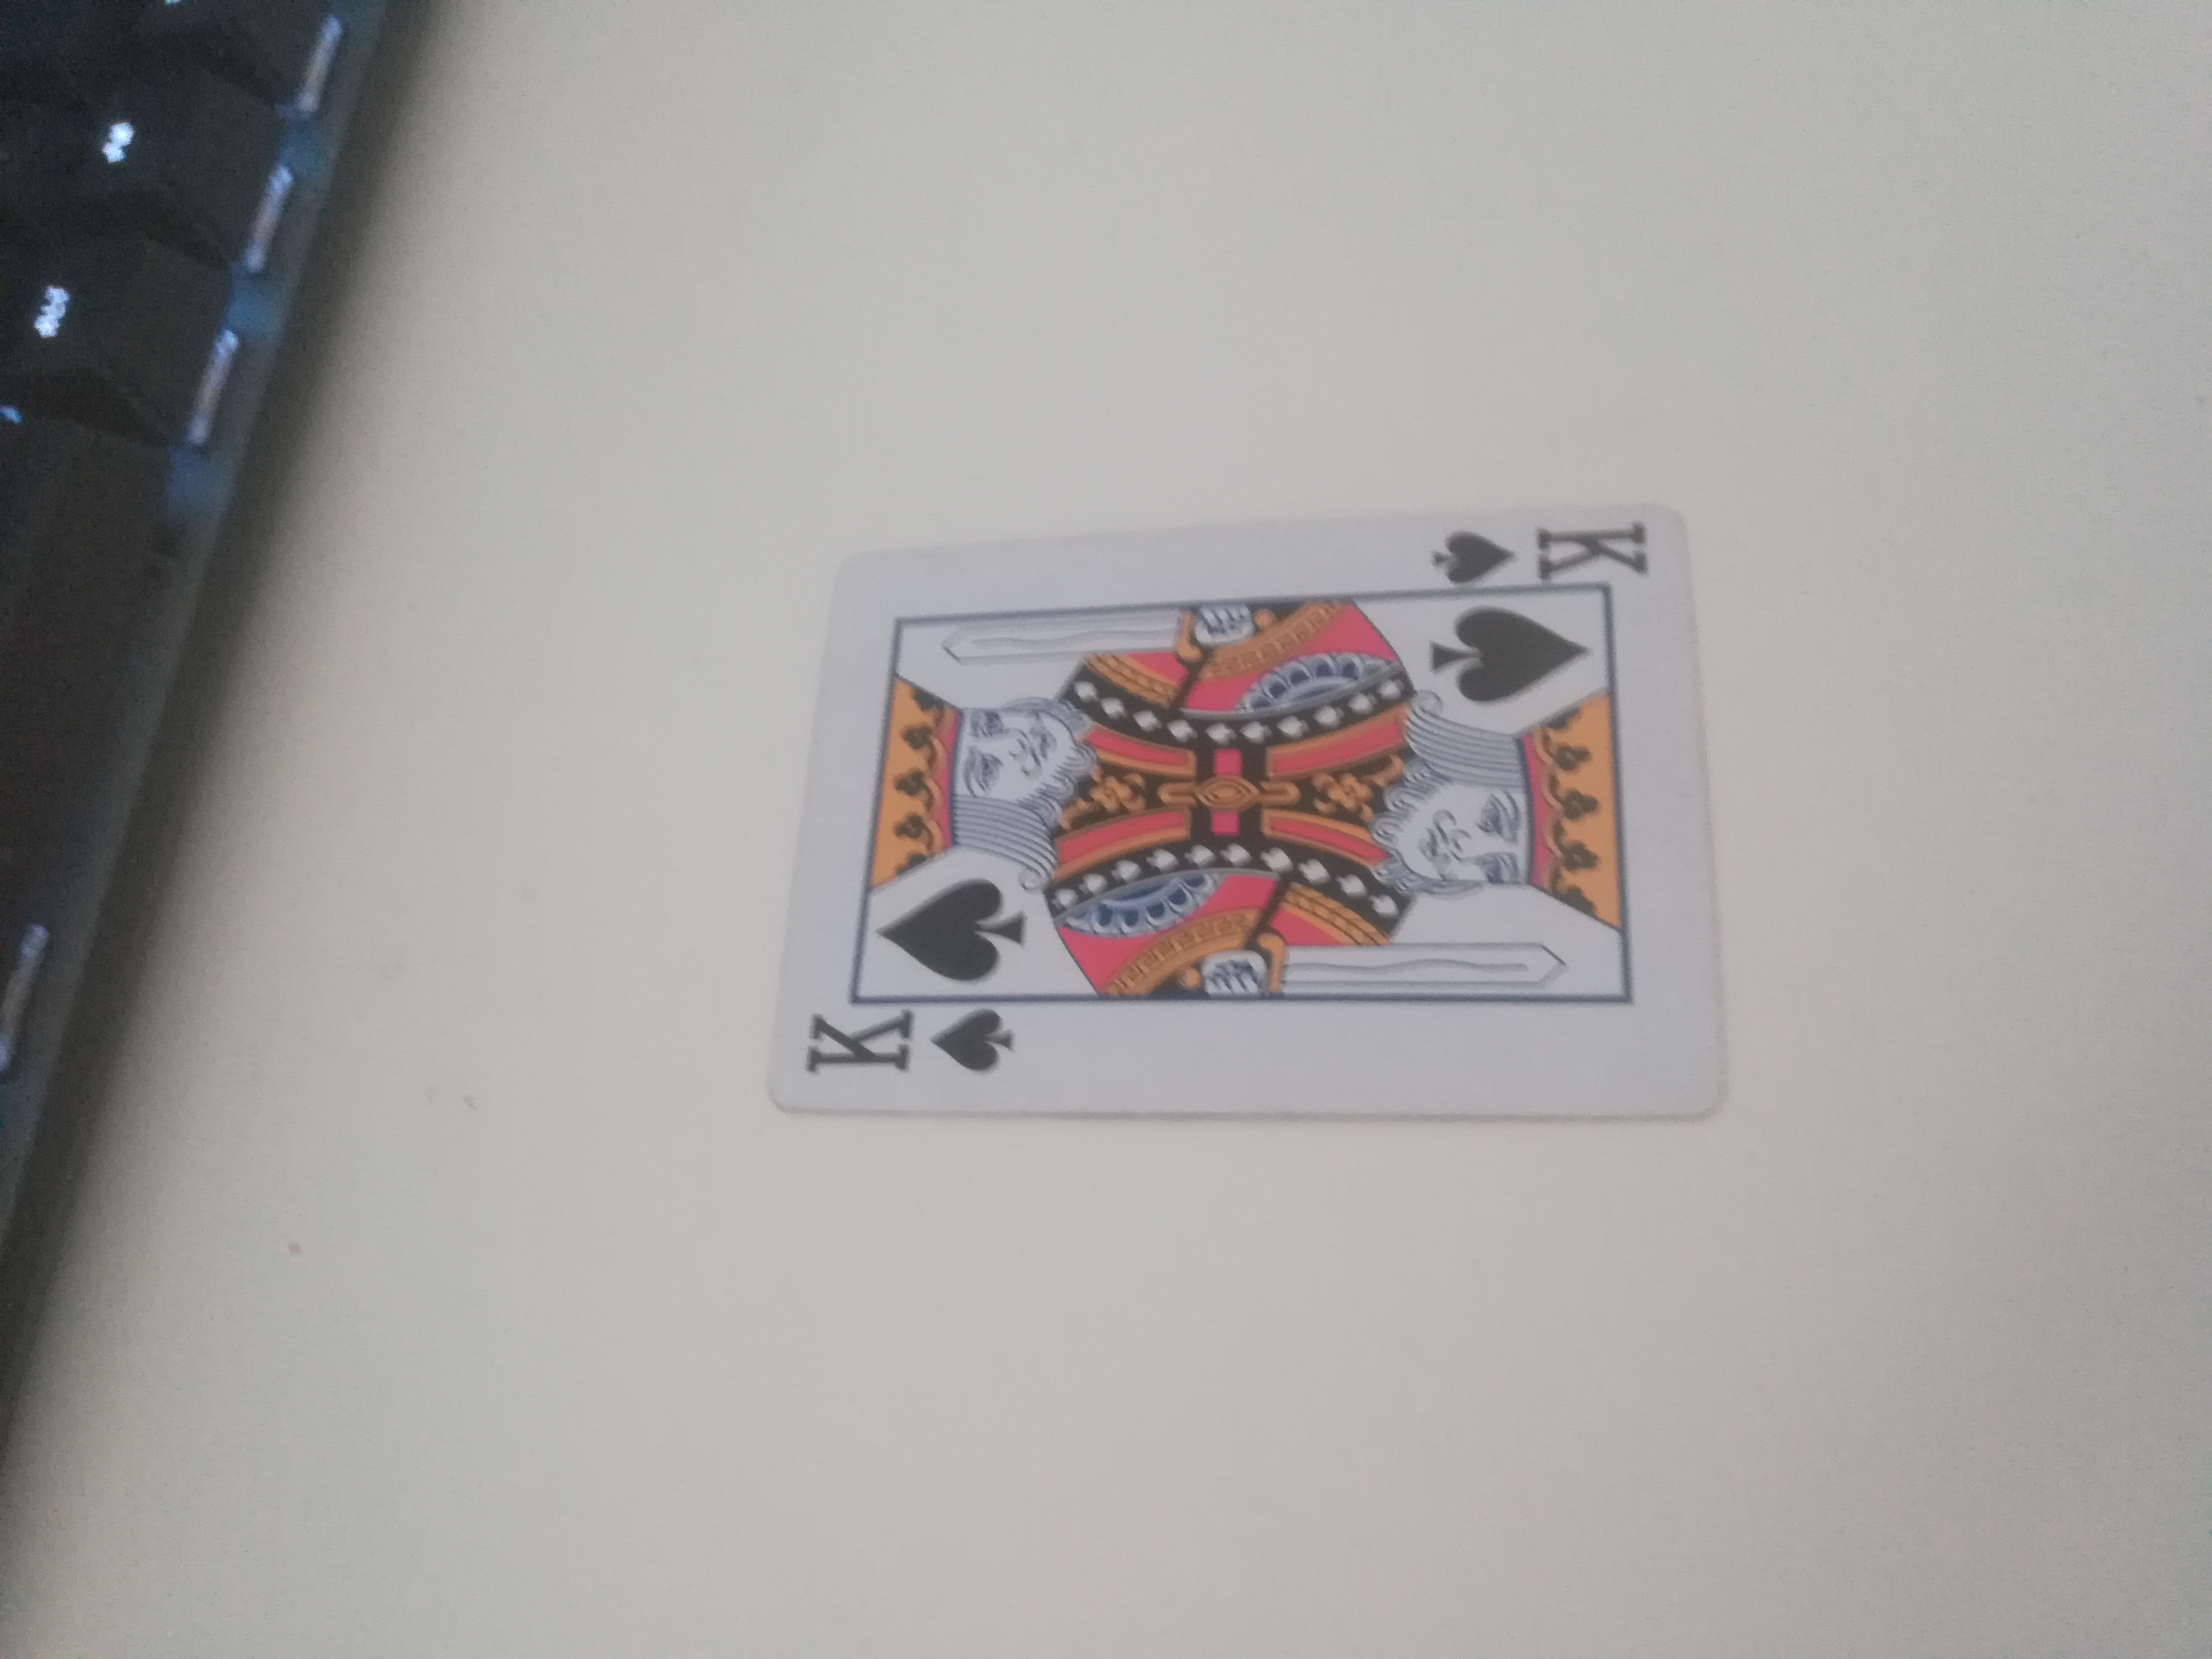KS: (759, 486, 1721, 1131)
